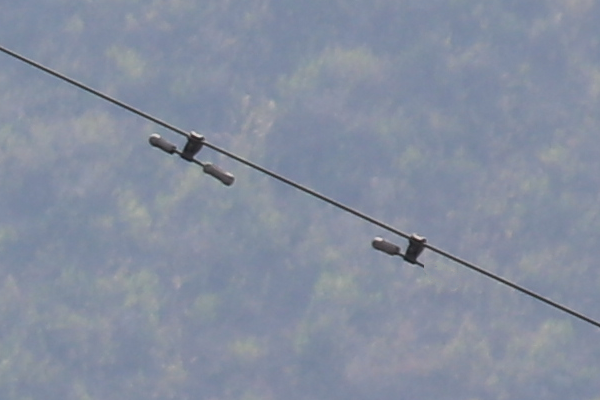damper: (146, 128, 236, 188)
damper_defect: (367, 229, 429, 272)
